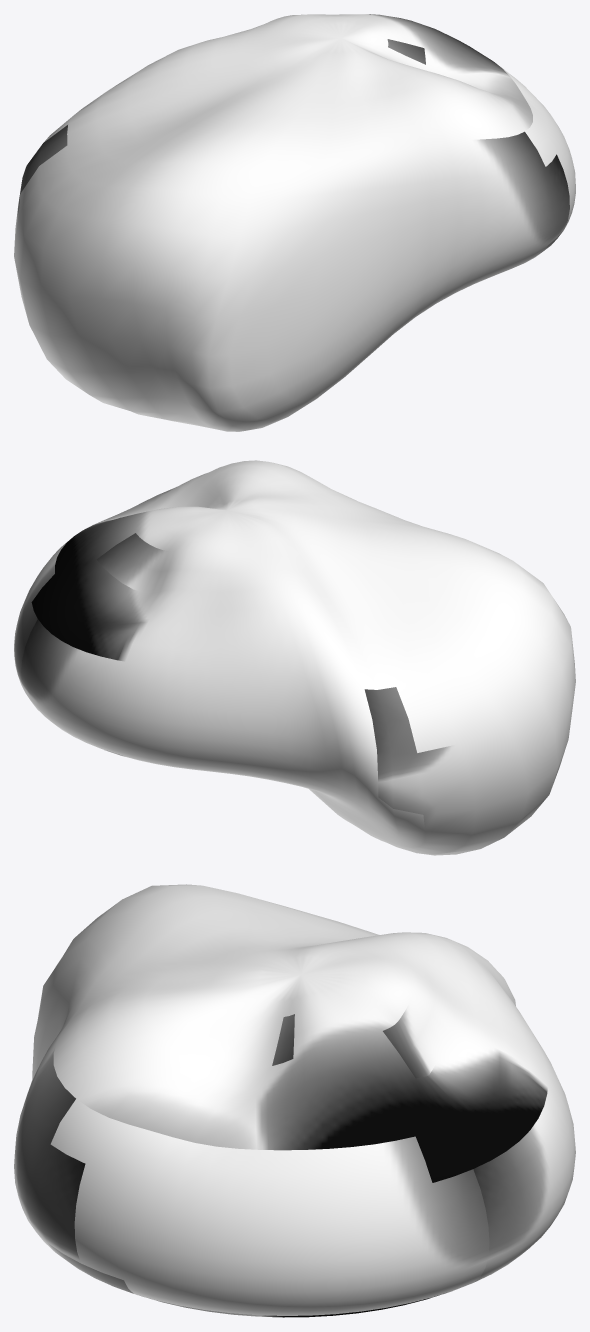
Rendered from SkyDome.fbx.
The picture shows the model from 3 angles, top to bottom: view 1: azimuth 30°, elevation 25°; view 2: azimuth 150°, elevation 25°; view 3: azimuth 270°, elevation 25°; orthographic projection. The views are drawn at different scales.
Parts seen in each view (by area): view 1: Sphere; view 2: Sphere; view 3: Sphere.
Part boxes in pixels (box(x1,y1,x2,y2)): Sphere: box(14, 14, 575, 431); Sphere: box(14, 460, 575, 855); Sphere: box(14, 884, 575, 1317).
Bounding box in the file's own units: 47123 × 27195 × 35297.
